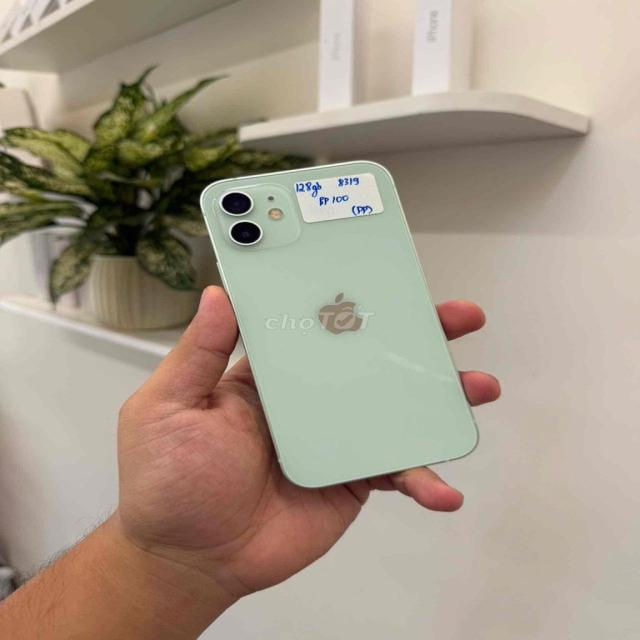gen_12_13: (197, 159, 483, 491)
